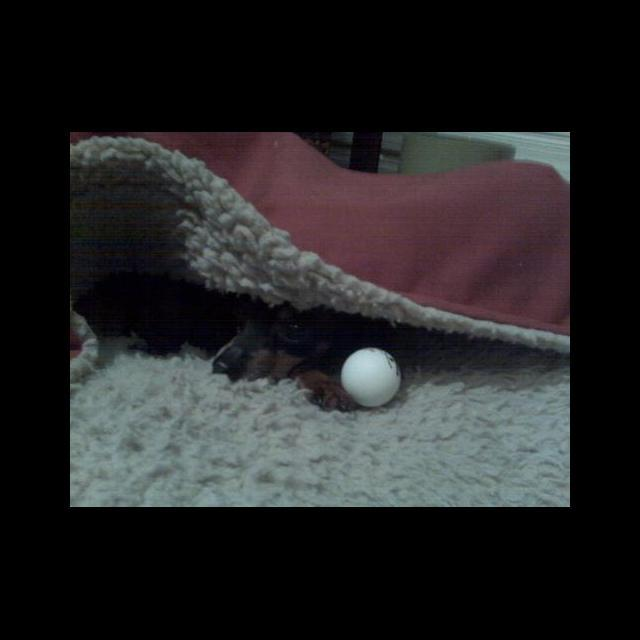ping-pong-ball: (341, 348, 402, 408)
